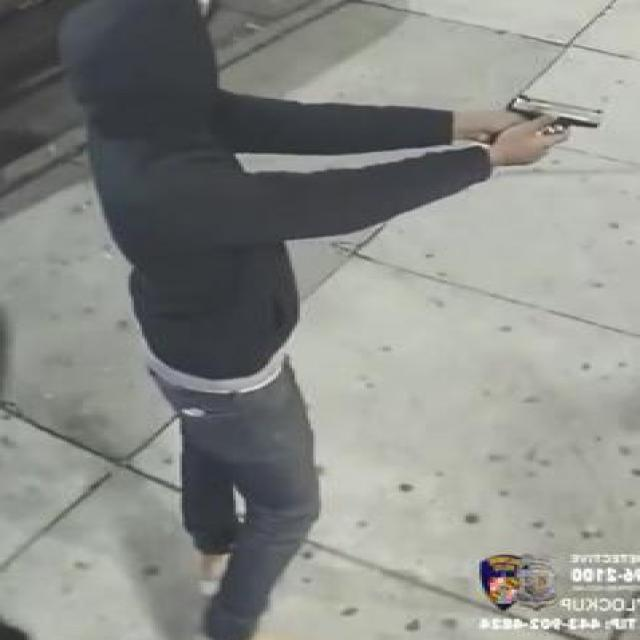Gun: (484, 90, 614, 168)
